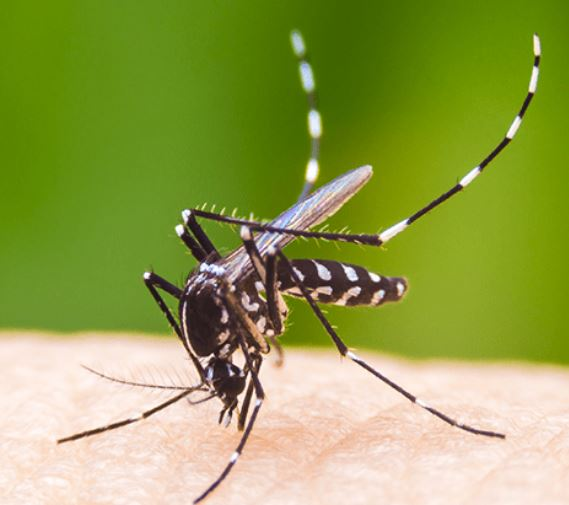dengue_mosquito: (58, 127, 507, 445)
